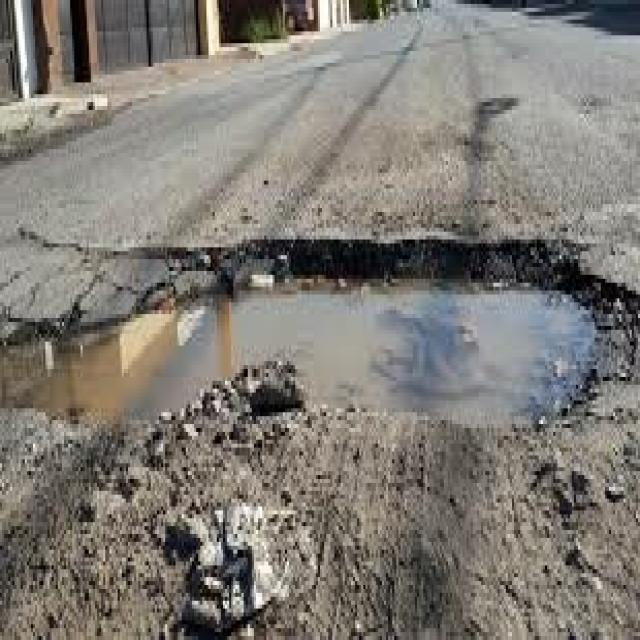pothole: (21, 220, 628, 558)
